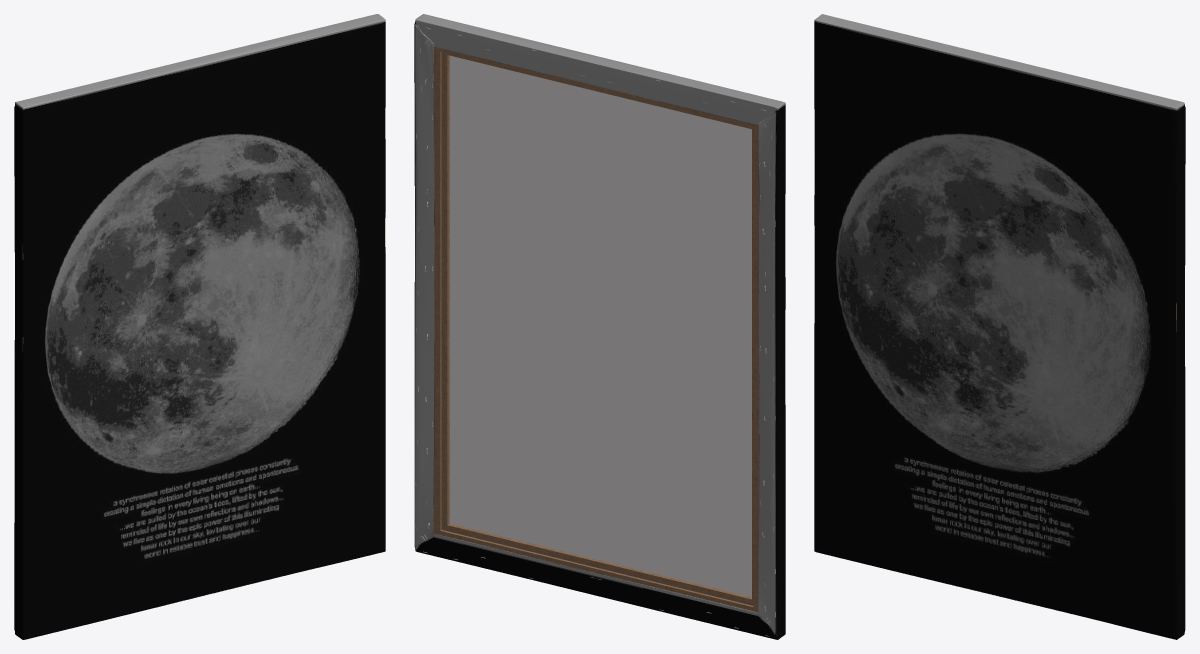
File: pjatteryd_obraz_50554502.glb
3 views of the same model, side by side, from view 1: azimuth 30°, elevation 25°; view 2: azimuth 150°, elevation 25°; view 3: azimuth 330°, elevation 25° (orthographic).
Parts seen in each view (by area): view 1: pjatteryd_obraz_50554502; view 2: pjatteryd_obraz_50554502; view 3: pjatteryd_obraz_50554502.
Boxes of the visible parts, <box> form: pjatteryd_obraz_50554502: <box>14,14,385,639</box>; pjatteryd_obraz_50554502: <box>414,14,785,639</box>; pjatteryd_obraz_50554502: <box>814,14,1185,639</box>.
Bounding box in the file's own units: 0.5023 × 0.7022 × 0.0221.
1 material, 1 textured.
